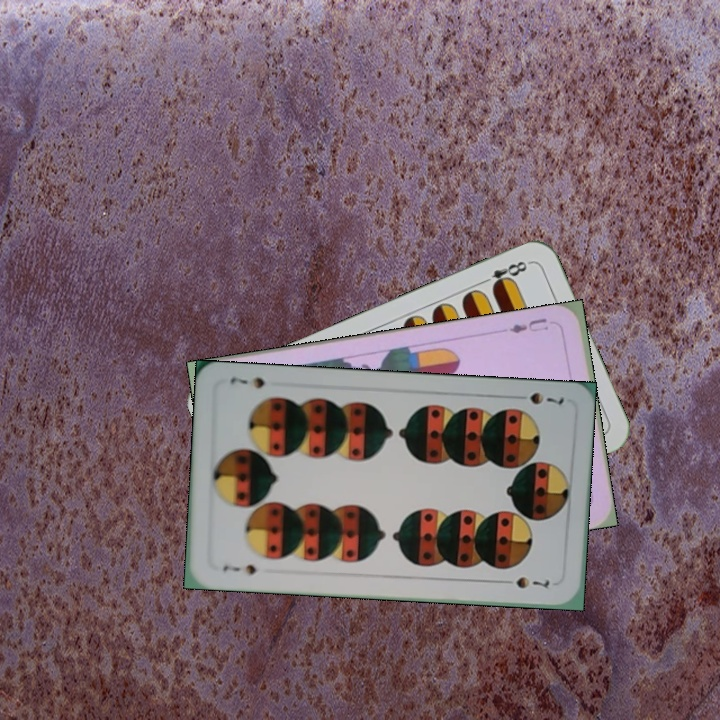E8: (476, 257, 533, 292)
EU: (505, 314, 551, 336)
S7: (510, 388, 567, 407), (219, 560, 259, 578)
